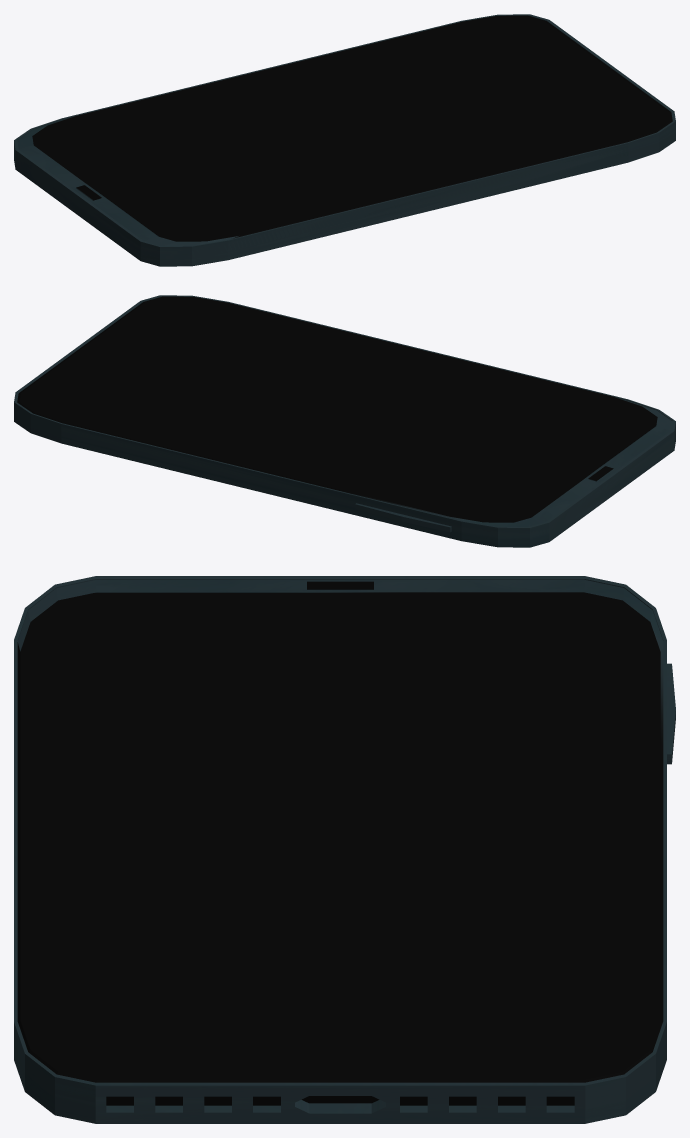
Rendered from Phone.fbx.
The picture shows the model from 3 angles, top to bottom: view 1: azimuth 30°, elevation 25°; view 2: azimuth 150°, elevation 25°; view 3: azimuth 270°, elevation 25°; orthographic projection. The views are drawn at different scales.
Parts seen in each view (by area): view 1: Cube.002; view 2: Cube.002; view 3: Cube.002.
Part boxes in pixels (x1,y1,x2,y2): Cube.002: (14,14,675,266); Cube.002: (14,295,675,547); Cube.002: (14,576,675,1123).
Bounding box in the file's own units: 37.67 × 1.38 × 20.68.
